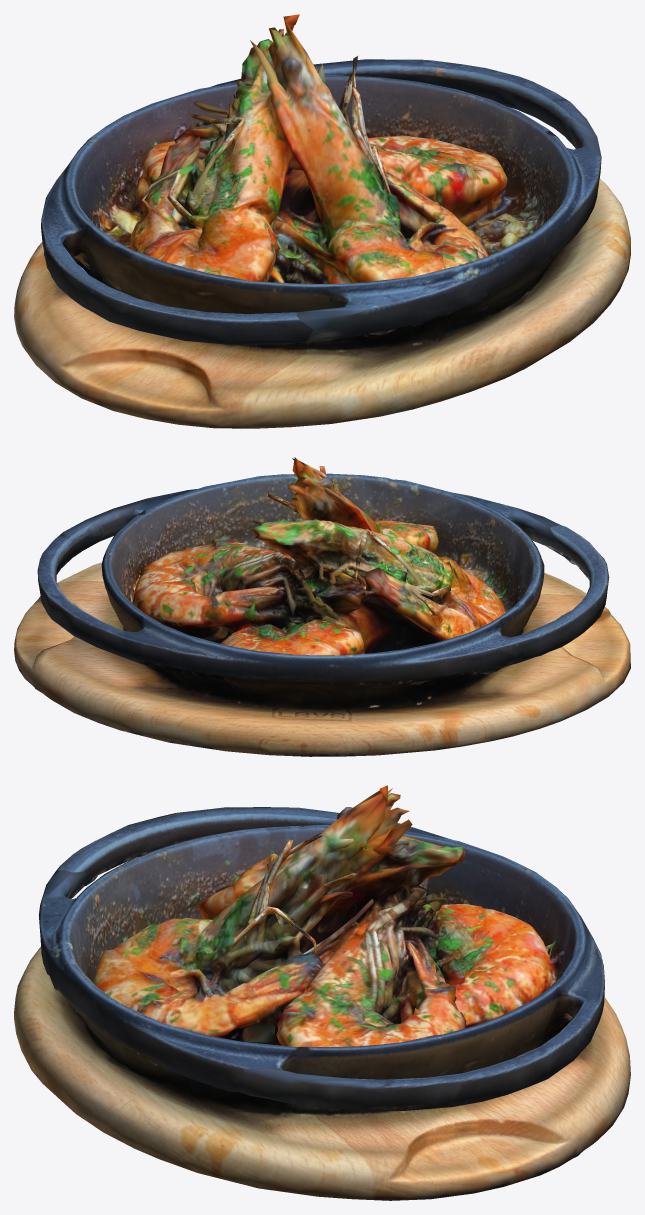
The picture shows the model from 3 angles, top to bottom: view 1: azimuth 30°, elevation 25°; view 2: azimuth 150°, elevation 25°; view 3: azimuth 270°, elevation 25°; orthographic projection. The views are drawn at different scales.
Visible parts, largest first — view 1: object.005; view 2: object.005; view 3: object.005.
Part boxes in pixels (x1,y1,x2,y2): object.005: (14, 14, 630, 428); object.005: (14, 457, 630, 756); object.005: (14, 785, 630, 1200).
Bounding box in the file's own units: 0.25 × 0.1 × 0.213.
Materials: 1 (1 with a texture image).
